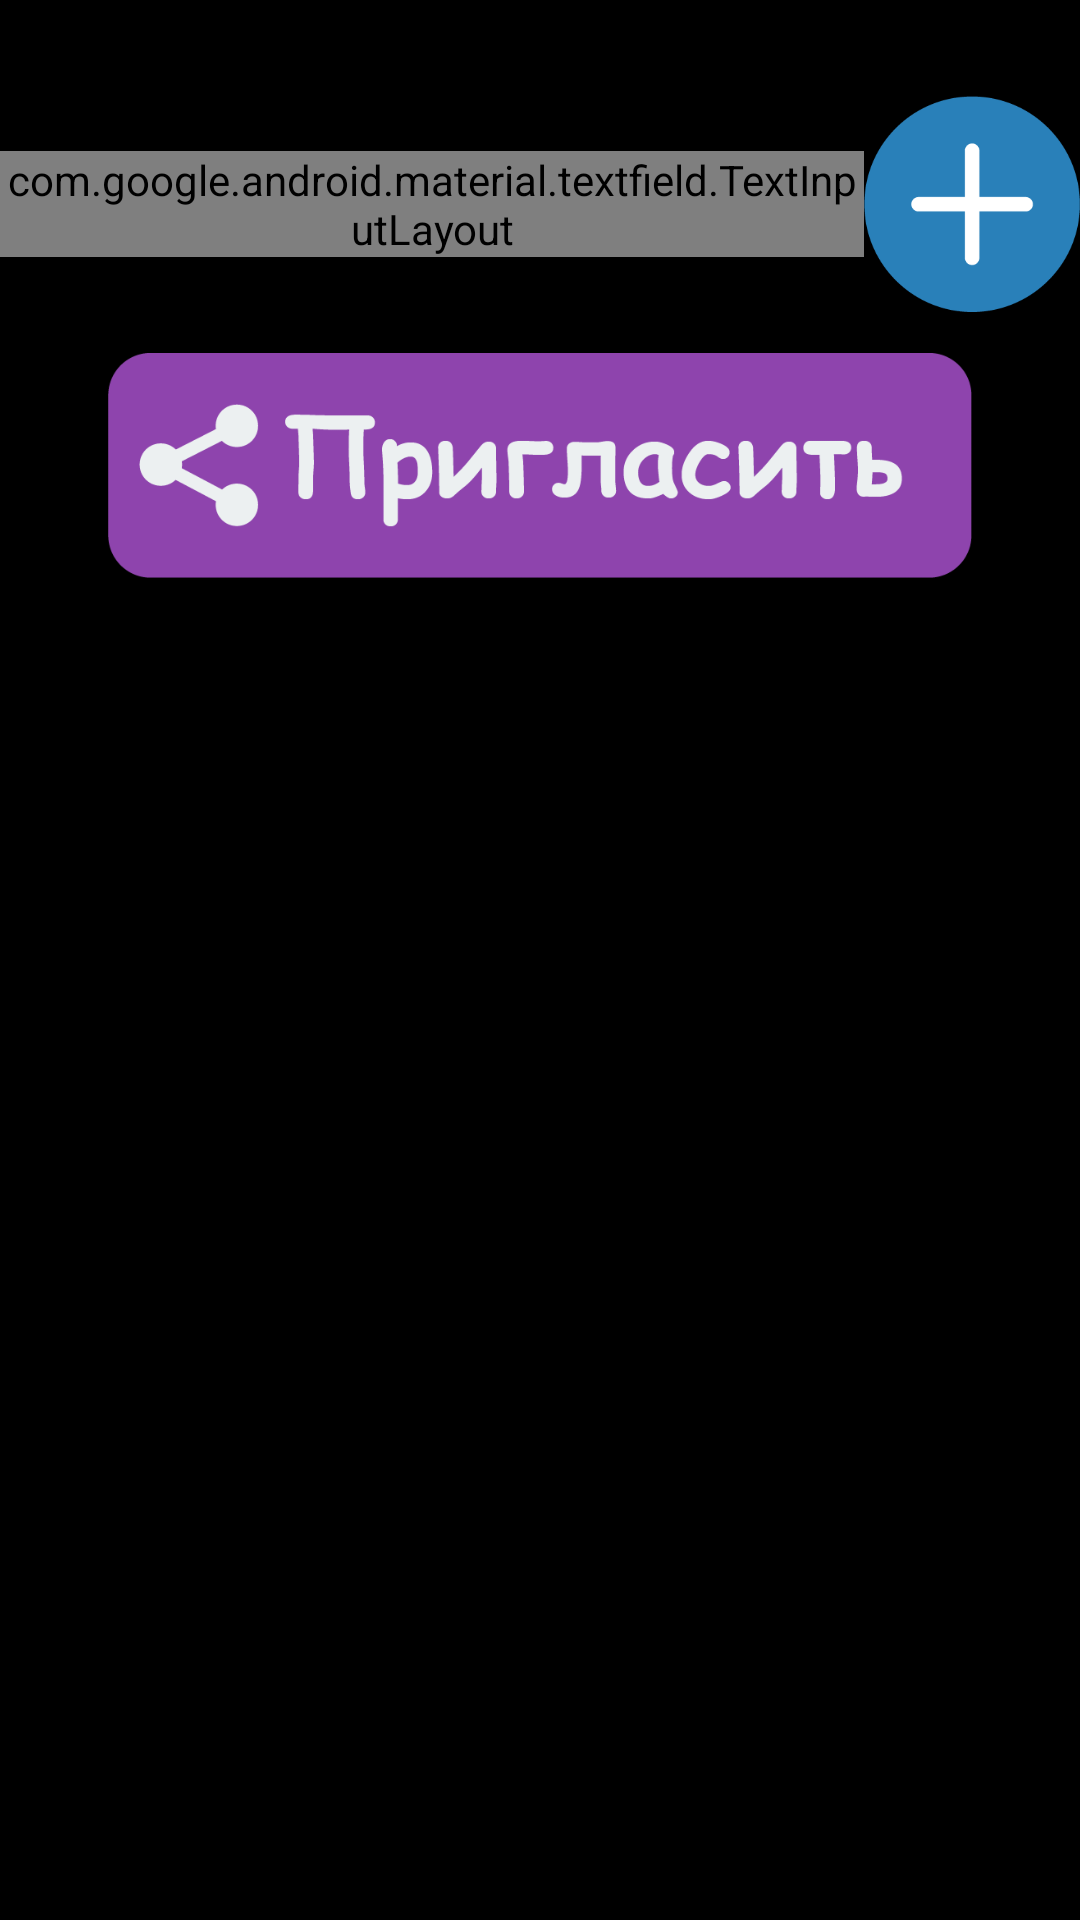

Icon click points for this 1080px×1920px phone screenshot, format (x=x, y=y):
add friend to list: (x=972, y=204)
